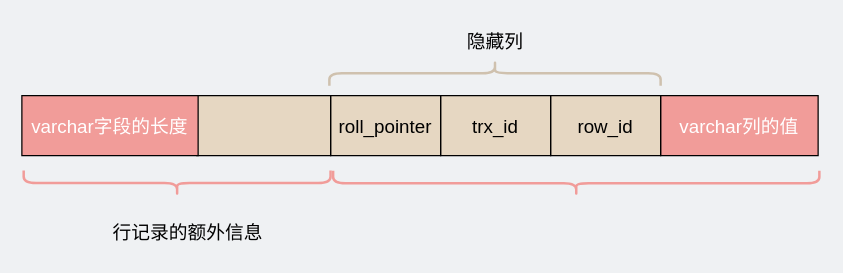
Some shapes in this 843 by 273 pixel diagram are drawn without their labels. The shapes that lost their labels are listed below. From the top down, each one's centre as x and y in pixels, then its label:
At [263,125]: "记录头信息".
At [575,182]: "行记录的真实信息".
